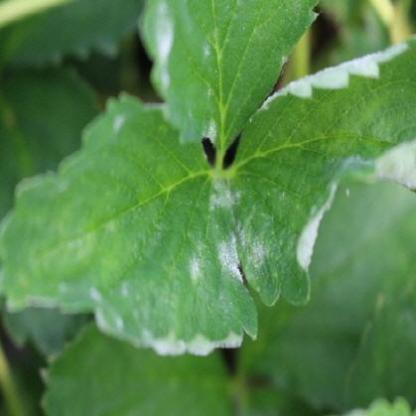Strawberry_Powdery_Mildew_Leaf: (0, 90, 258, 358), (226, 35, 415, 307), (139, 0, 321, 155)
